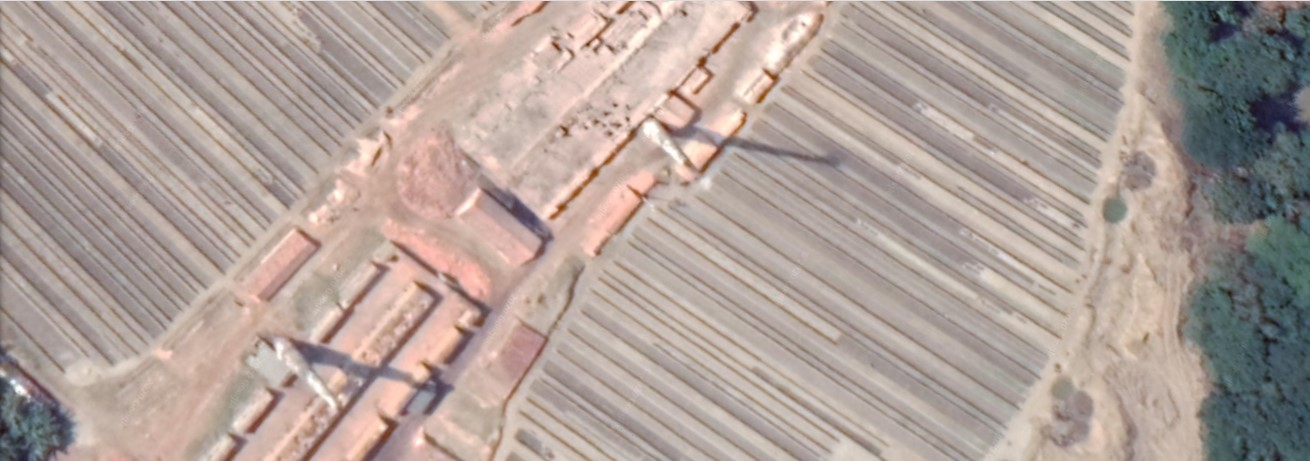kiln: (203, 252, 514, 444), (437, 57, 830, 191)
